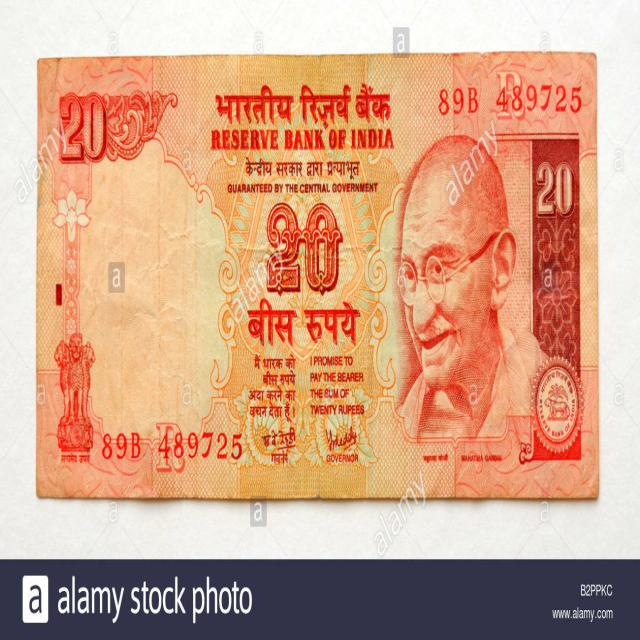20IndianRupees: (37, 61, 598, 493), (214, 57, 598, 492), (36, 61, 374, 493)
